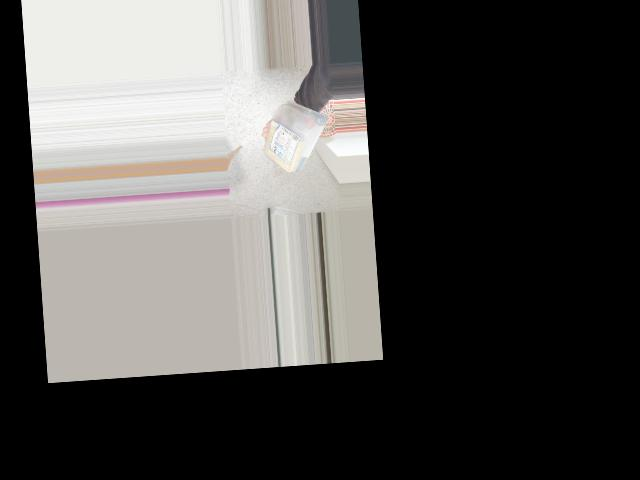cheese: (254, 94, 336, 179)
